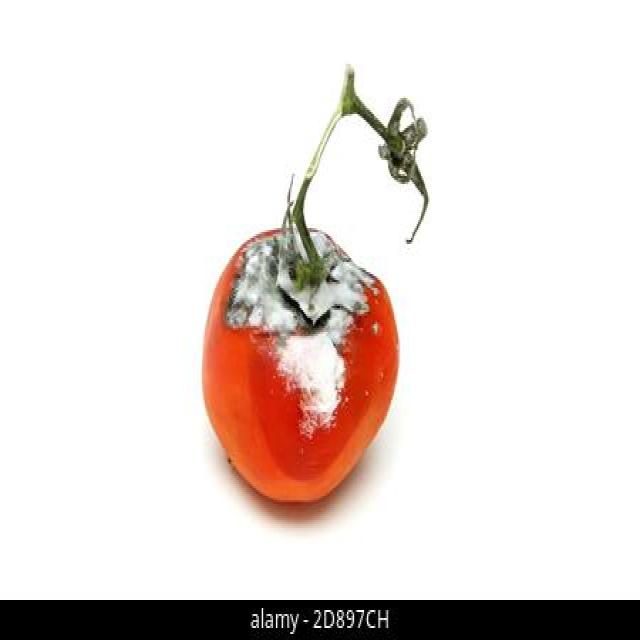Rotten: (202, 226, 398, 504)
